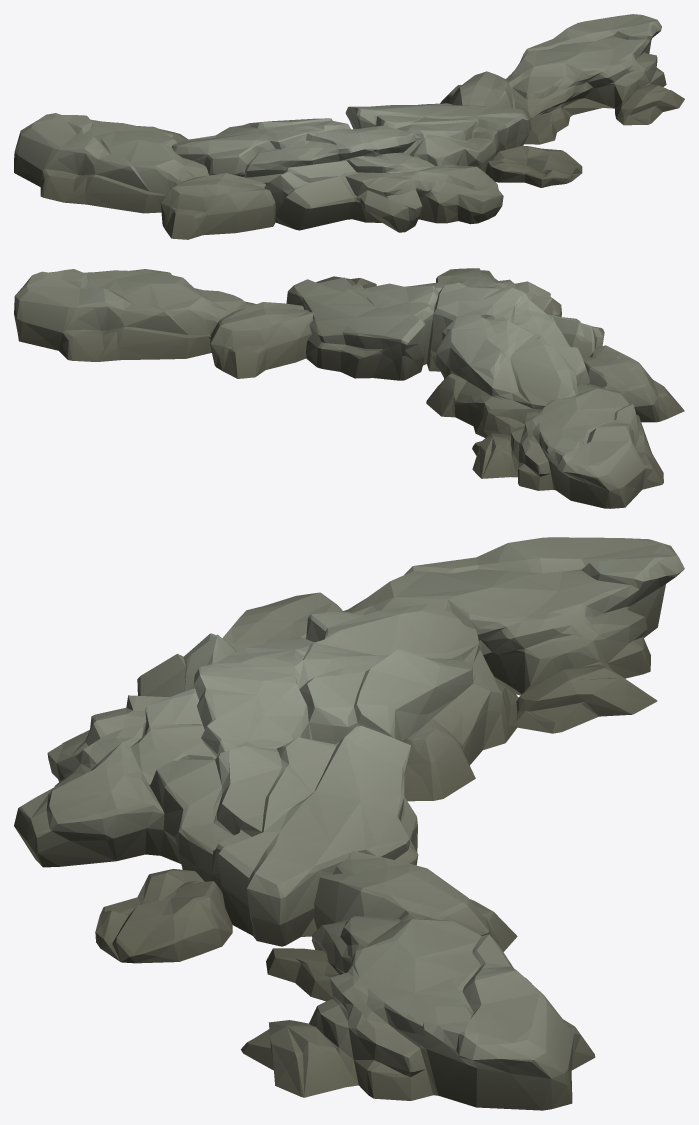
File: ZLP_Rock_E_12.FBX
3 renders of one model, top to bottom at view 1: azimuth 30°, elevation 25°; view 2: azimuth 150°, elevation 25°; view 3: azimuth 270°, elevation 25°, orthographic. The views are drawn at different scales.
Visible parts, largest first — view 1: ZLP_Rock_E_12; view 2: ZLP_Rock_E_12; view 3: ZLP_Rock_E_12.
Part boxes in pixels (bbox=[...]): ZLP_Rock_E_12: bbox=[14, 14, 684, 239]; ZLP_Rock_E_12: bbox=[14, 268, 684, 508]; ZLP_Rock_E_12: bbox=[14, 537, 684, 1110].
Size of the model in its own units: 1319 by 130 by 700.
